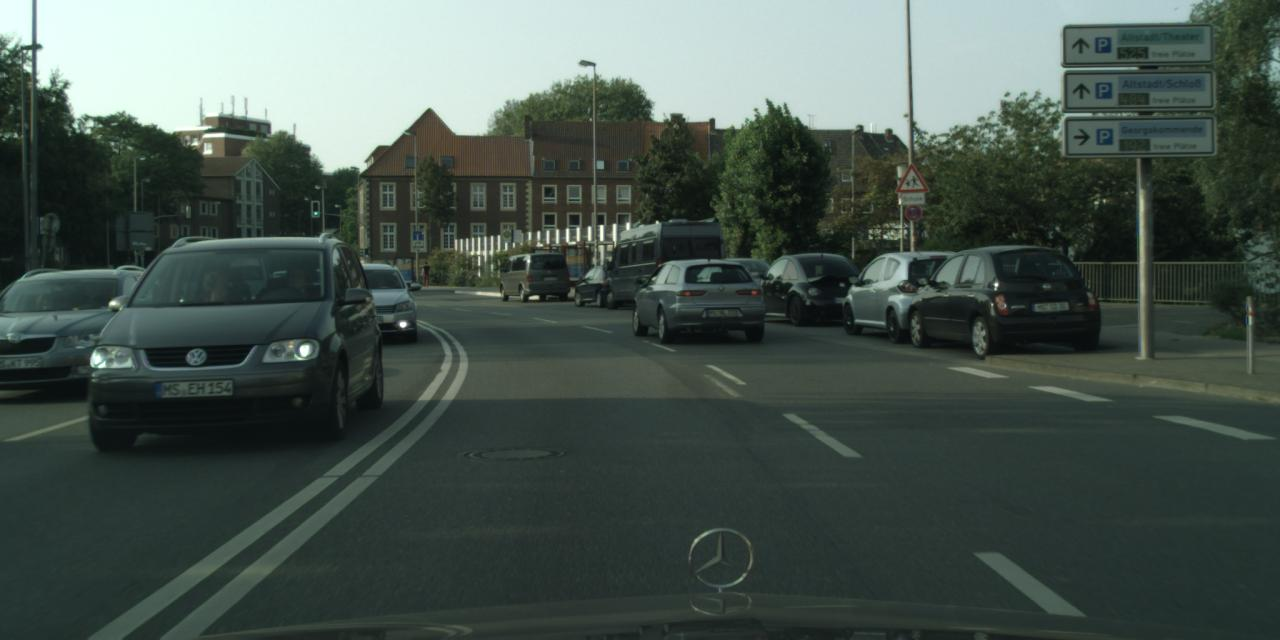ped: (420, 260, 430, 286)
